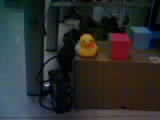duck: (64, 31, 104, 67)
